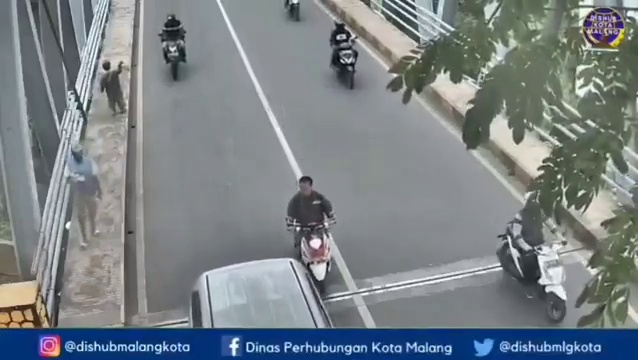motorbike: (497, 188, 569, 326), (288, 175, 330, 293), (328, 19, 360, 94), (160, 12, 190, 84)
